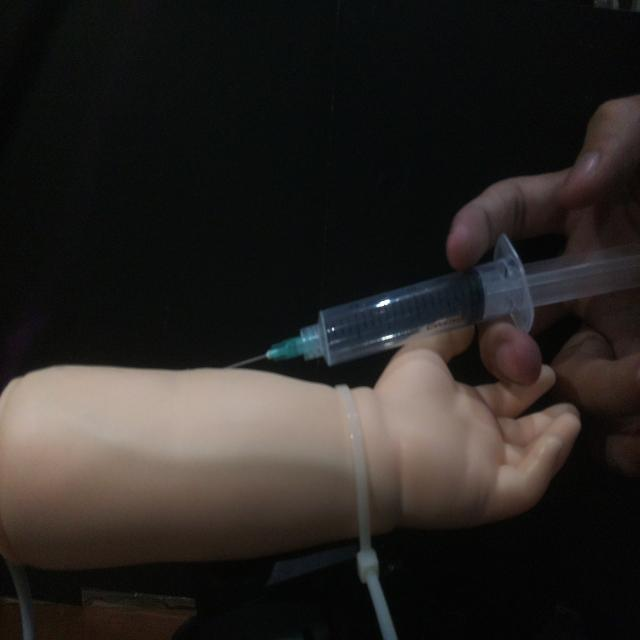15deg: (223, 230, 637, 374)
